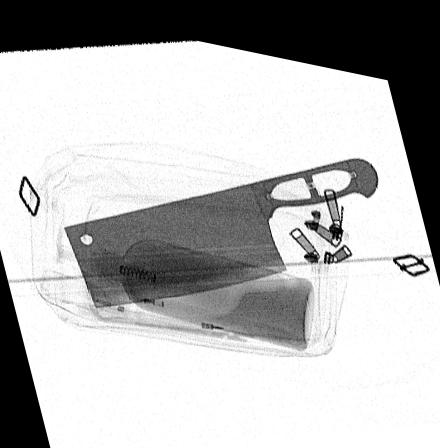Knife: (63, 141, 378, 304)
